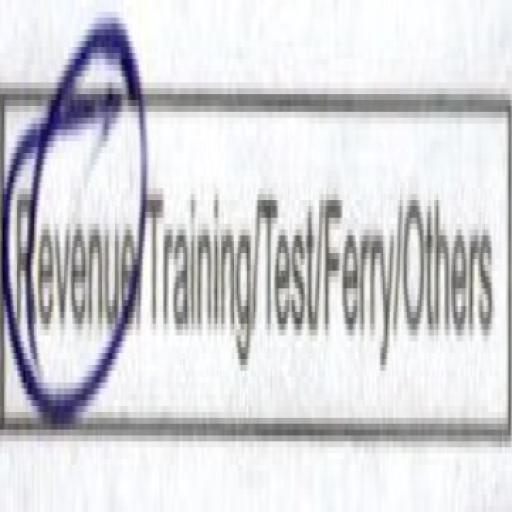check: (1, 3, 140, 447)
